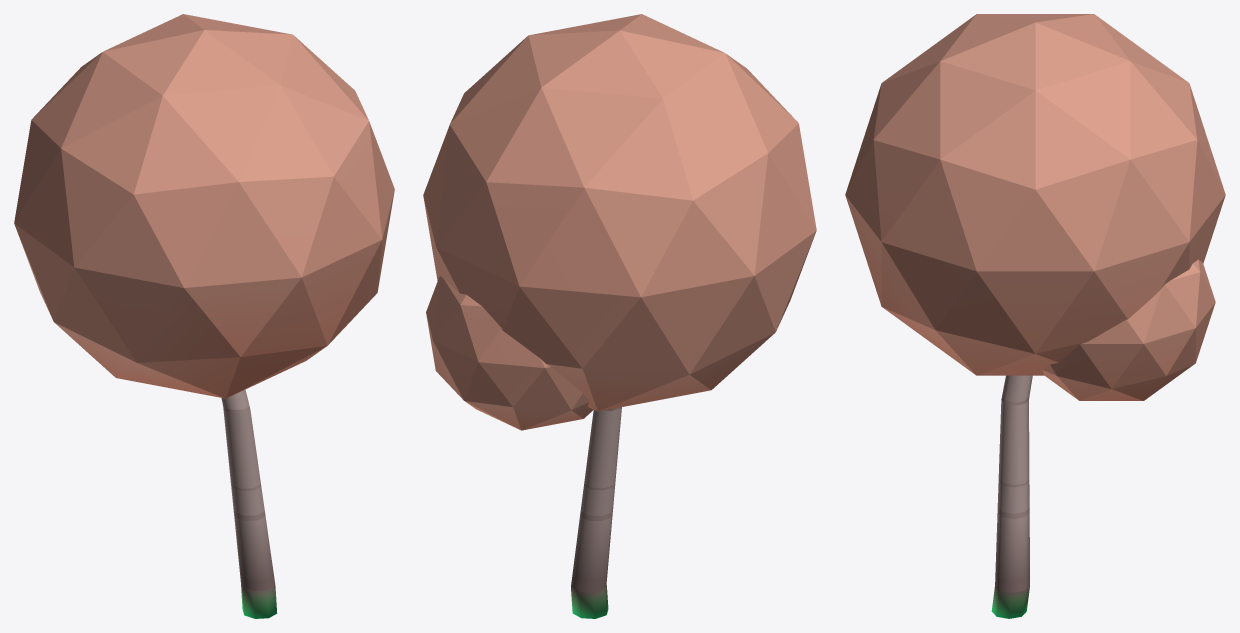
Rendered from mdl_env_1_forest_tree_e_v01.fbx.
The picture shows the model from 3 angles, left to right: view 1: azimuth 30°, elevation 25°; view 2: azimuth 150°, elevation 25°; view 3: azimuth 270°, elevation 25°; orthographic projection. The views are drawn at different scales.
Parts seen in each view (by area): view 1: mdl_env_1_forest_tree_e_v01; view 2: mdl_env_1_forest_tree_e_v01; view 3: mdl_env_1_forest_tree_e_v01.
Boxes of the visible parts, x1,y1,x2,y2 form: mdl_env_1_forest_tree_e_v01: (14,14,394,618); mdl_env_1_forest_tree_e_v01: (423,14,816,618); mdl_env_1_forest_tree_e_v01: (845,14,1225,618).
Size of the model in its own units: 11.09 by 19.25 by 11.66.
